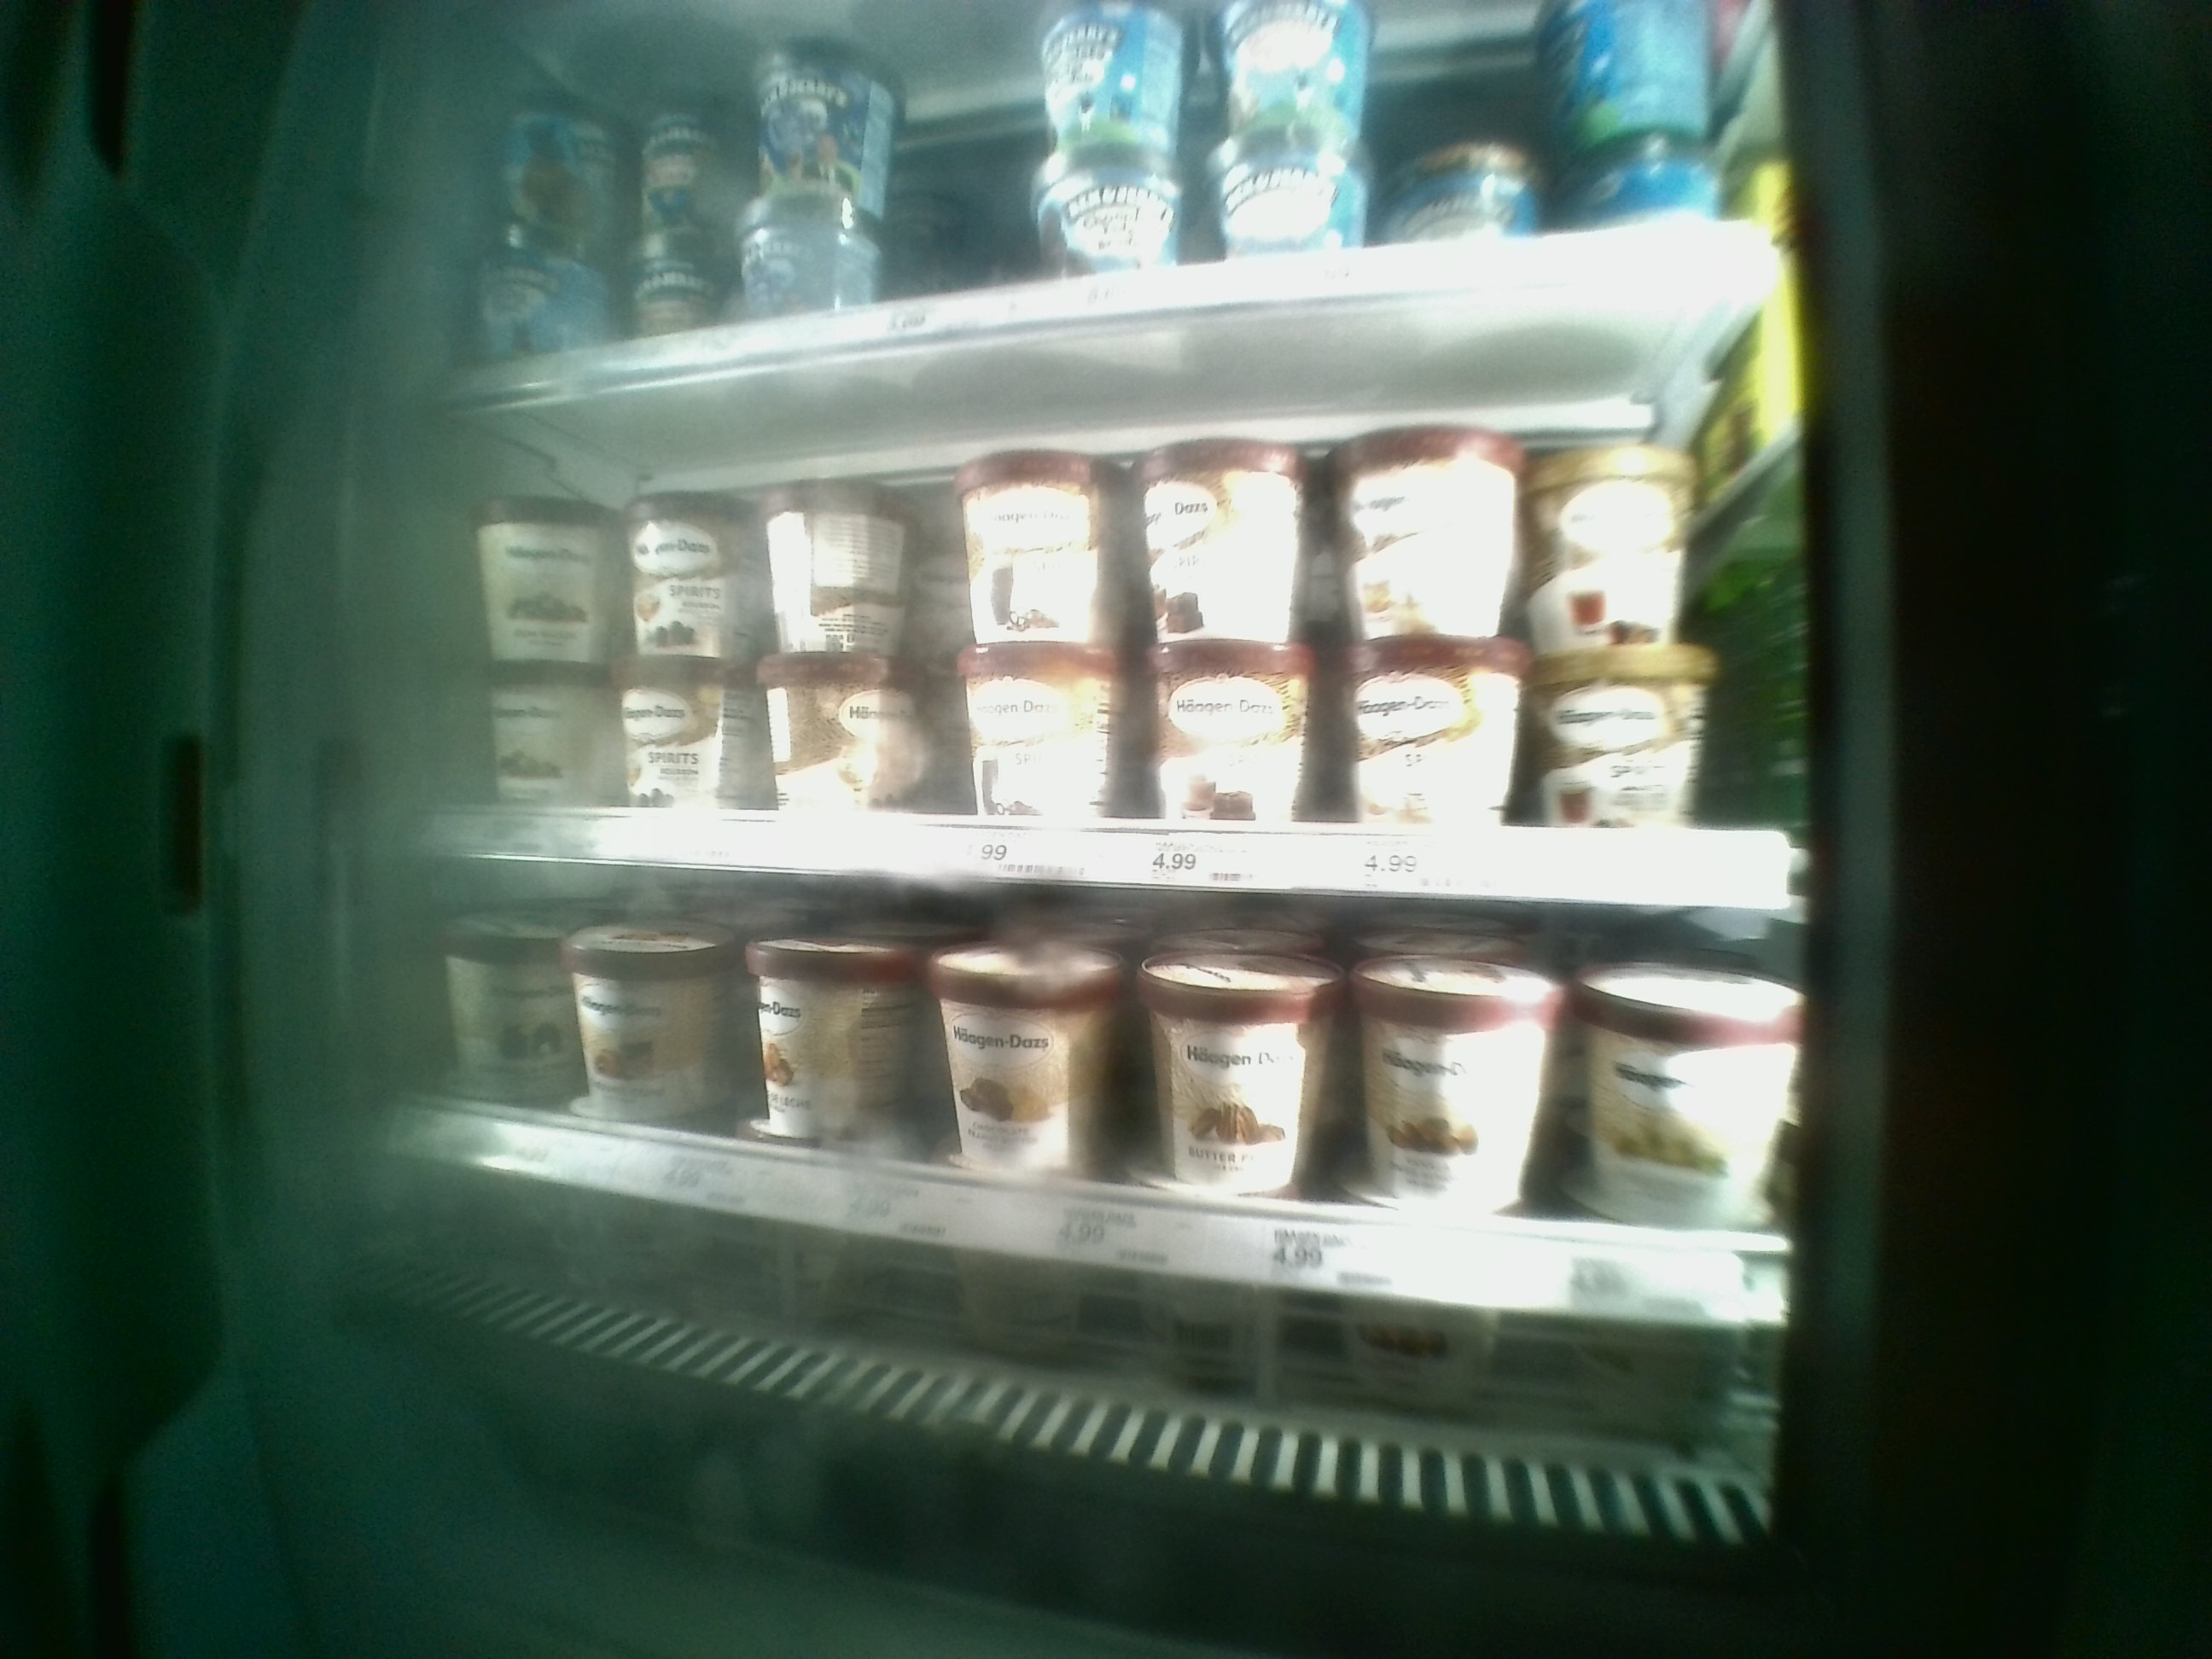shelf: (432, 282, 1806, 915), (434, 857, 1810, 1480)
